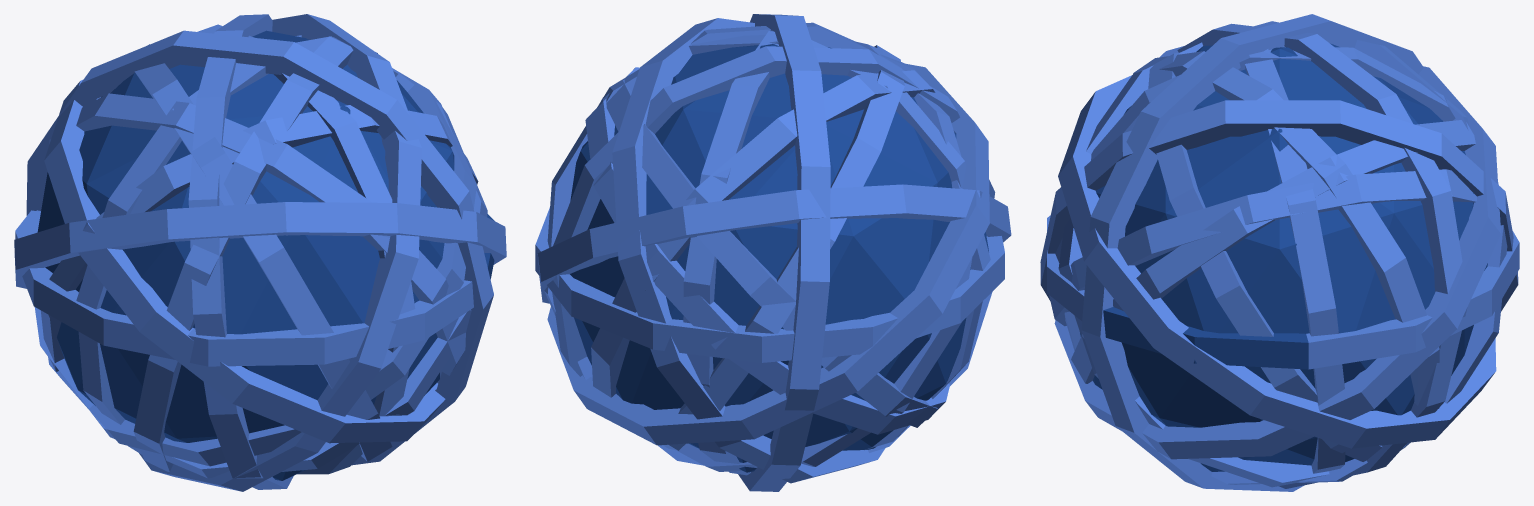
The model's file is Wool Thread.fbx.
3 renders of one model, left to right at view 1: azimuth 30°, elevation 25°; view 2: azimuth 150°, elevation 25°; view 3: azimuth 270°, elevation 25°, orthographic. The views are drawn at different scales.
Parts seen in each view (by area): view 1: String; view 2: String; view 3: String.
Boxes of the visible parts, x1,y1,x2,y2 form: String: [14, 14, 506, 491]; String: [535, 14, 1011, 491]; String: [1040, 14, 1519, 491].
Size of the model in its own units: 33.32 by 33.68 by 33.19.
